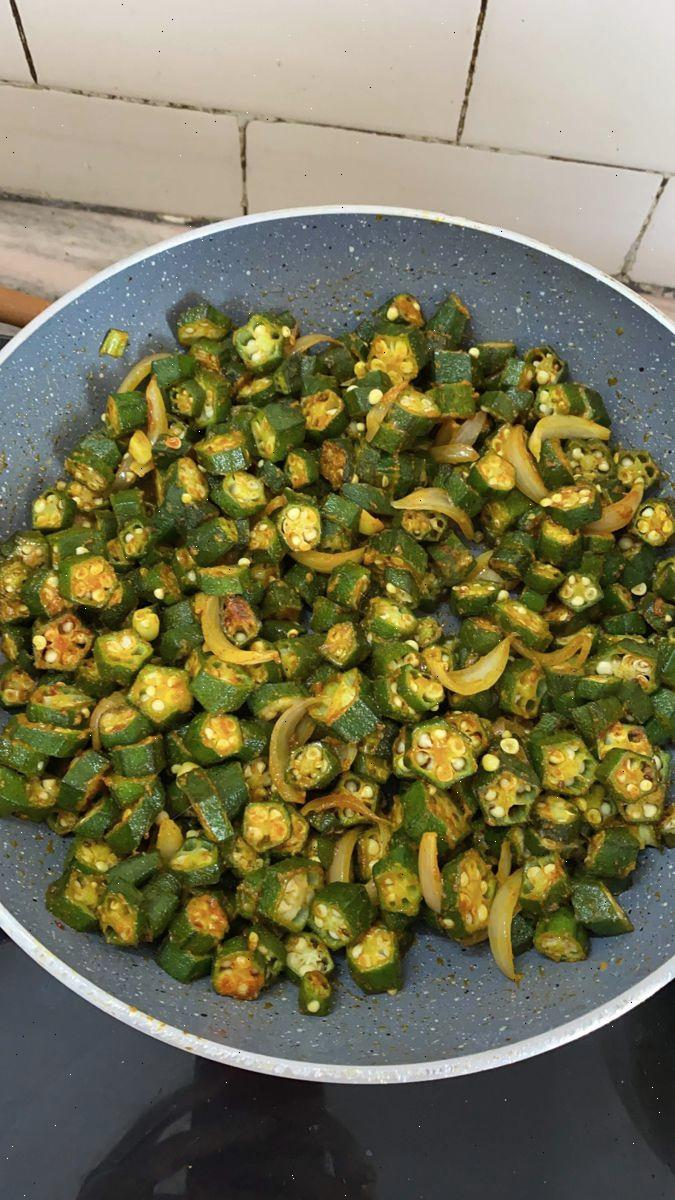bhindi: (7, 367, 675, 961)
